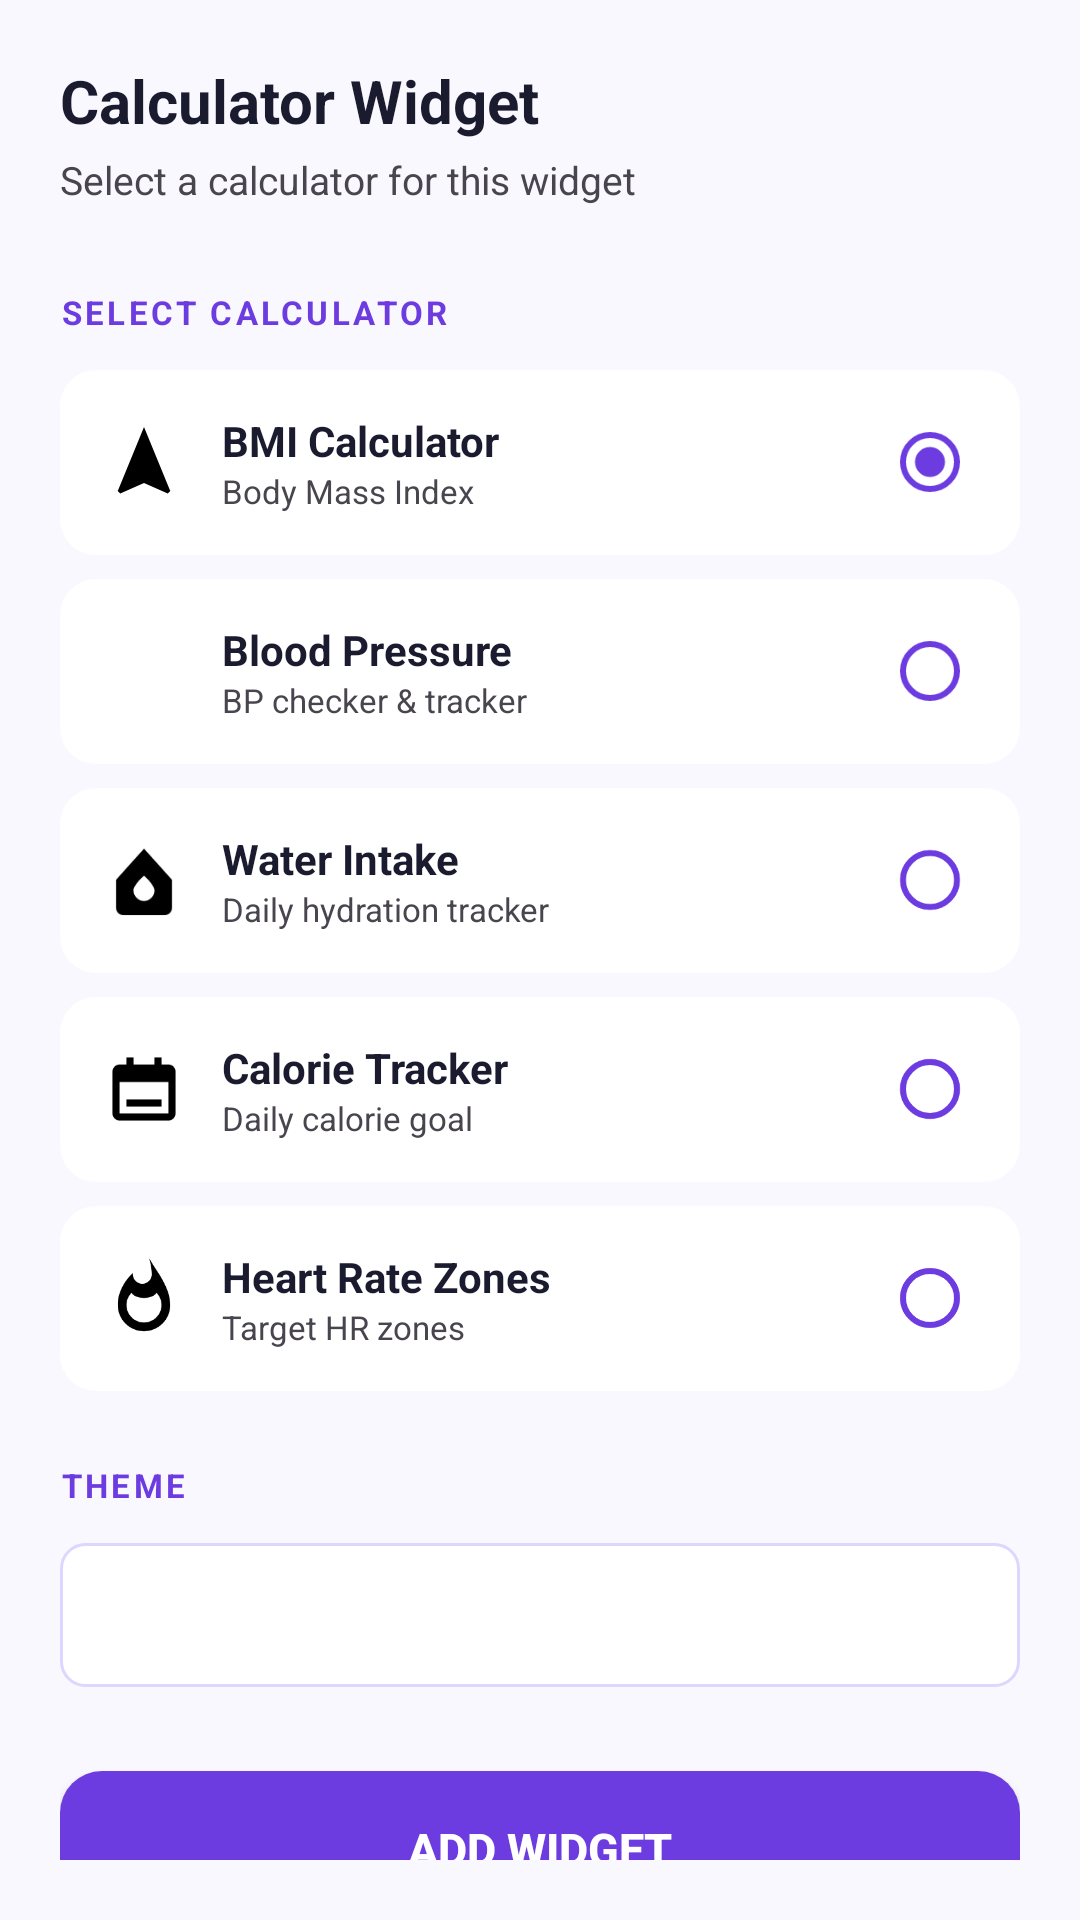

Icons on this 1080*1920 Android screen, each with the point to tap as (x=x, y=y):
streak: (x=144, y=1295)
